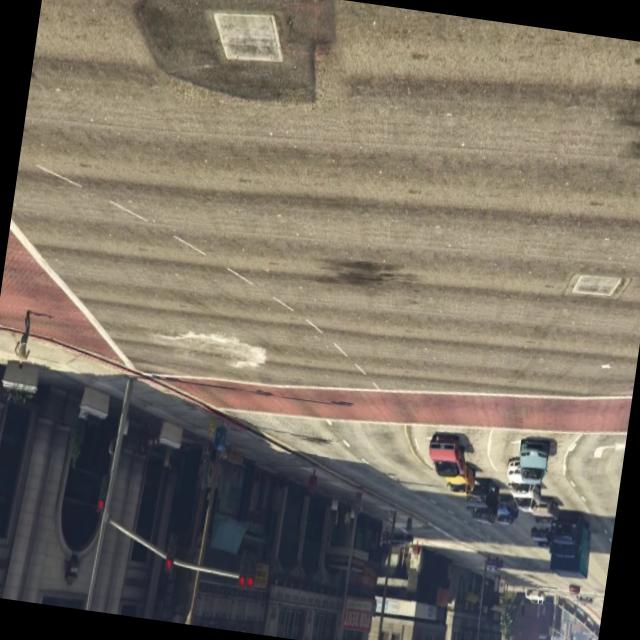Red-Signal: (224, 535, 270, 612), (88, 476, 121, 540), (156, 524, 188, 584)
